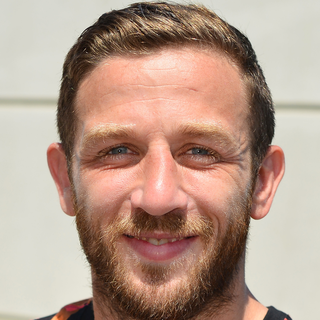eye: (93, 140, 143, 165), (175, 141, 224, 166)
